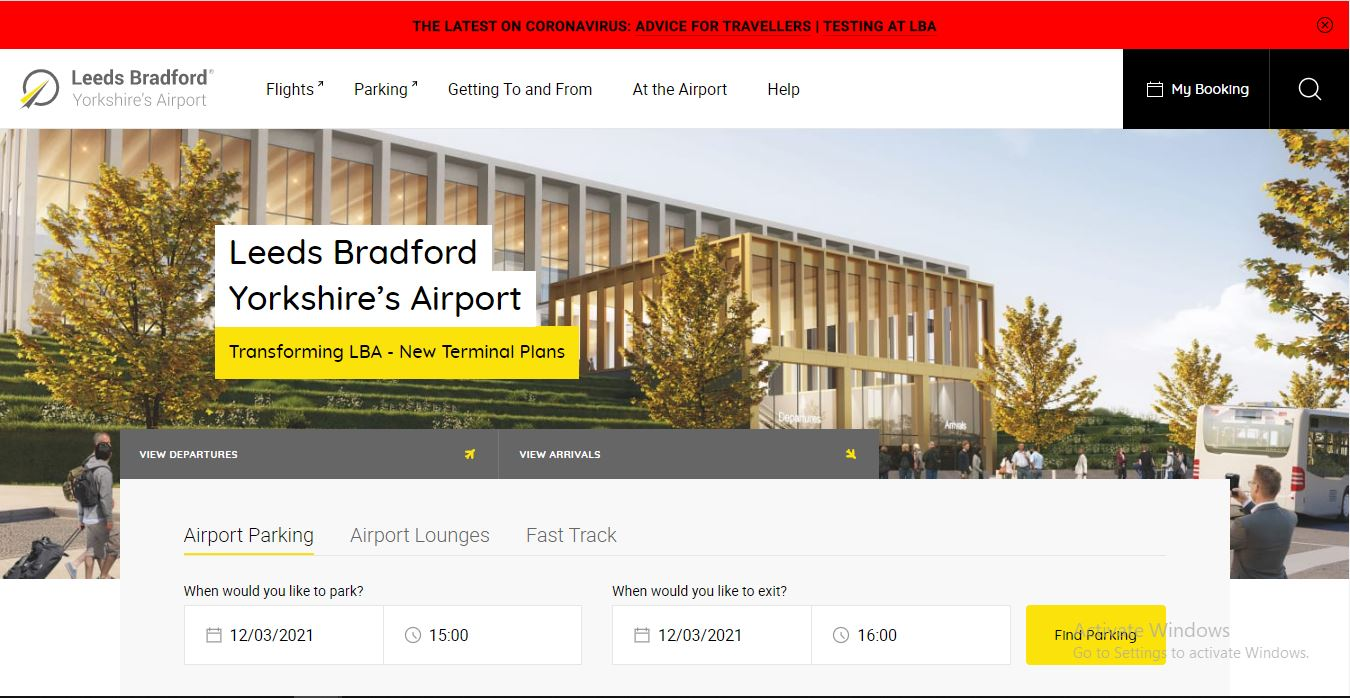Button: (1015, 606, 1173, 666)
Menu Bar: (247, 50, 816, 124)
Nav Bar: (1121, 50, 1350, 124)
